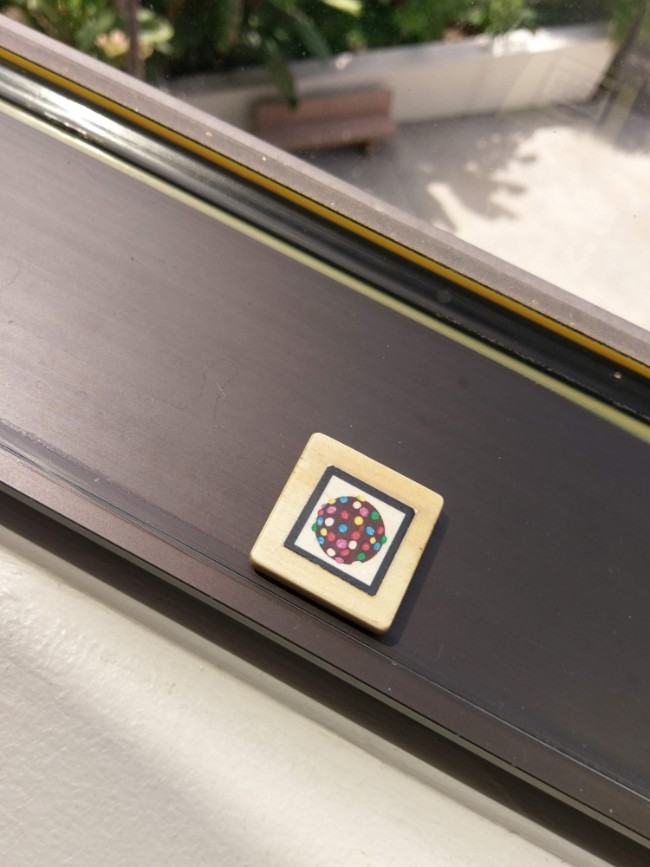cookie: (268, 462, 445, 609)
